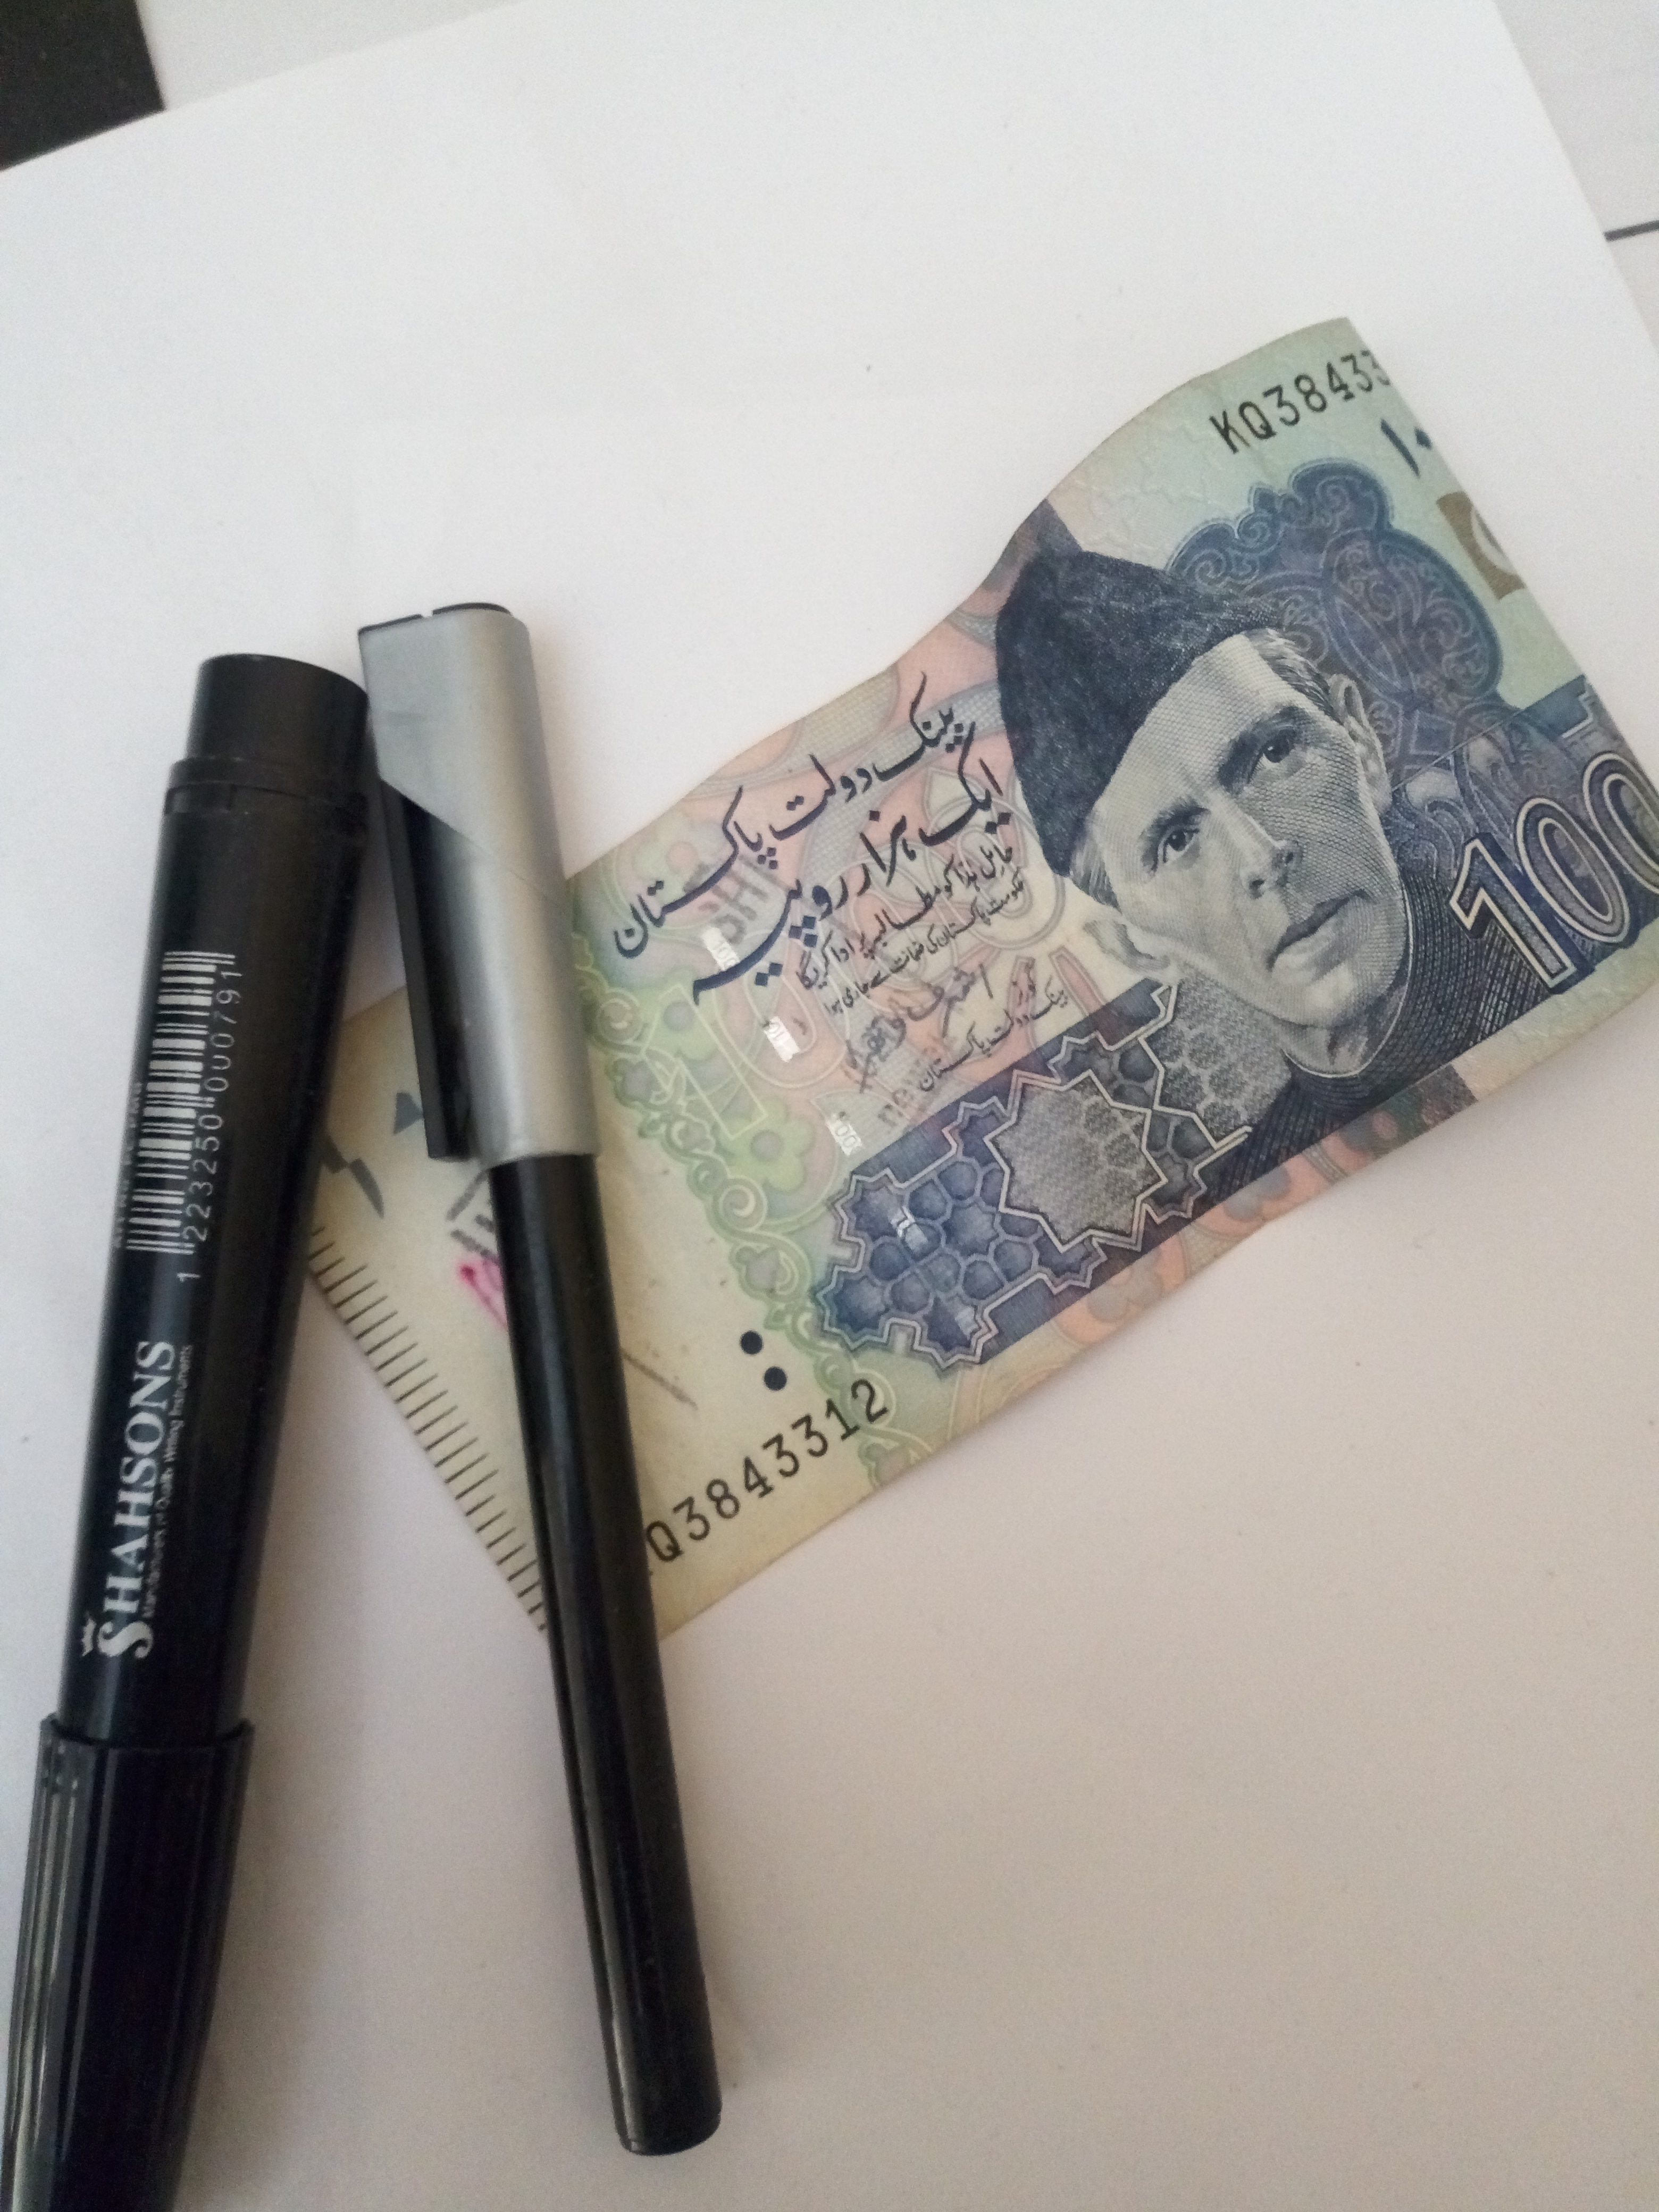1000 rupee: (434, 277, 1643, 1562)
